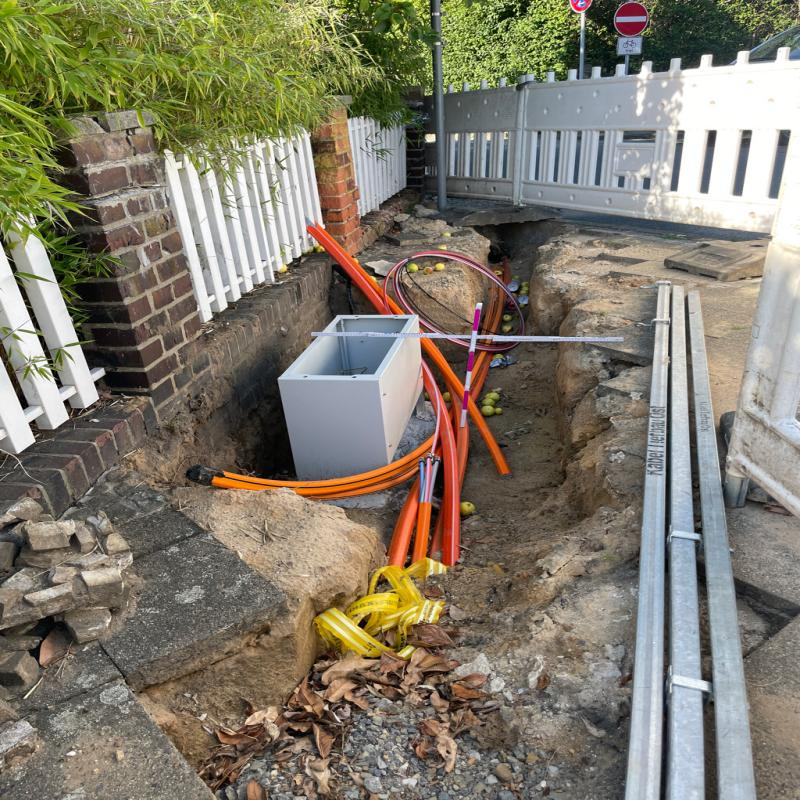Orang-Speednetrohrchen: (316, 223, 511, 479), (214, 438, 432, 497), (422, 363, 465, 563), (306, 225, 396, 318), (466, 289, 504, 398), (413, 503, 431, 566)
